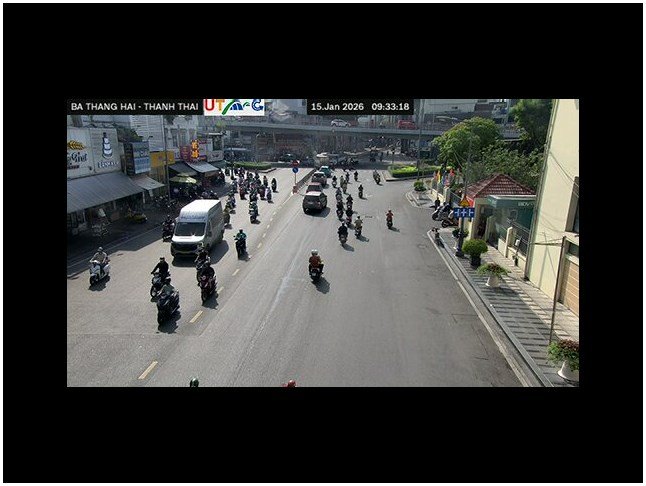car: (169, 198, 226, 257), (303, 189, 329, 215)
motorbike: (197, 257, 218, 308), (88, 250, 111, 290)
